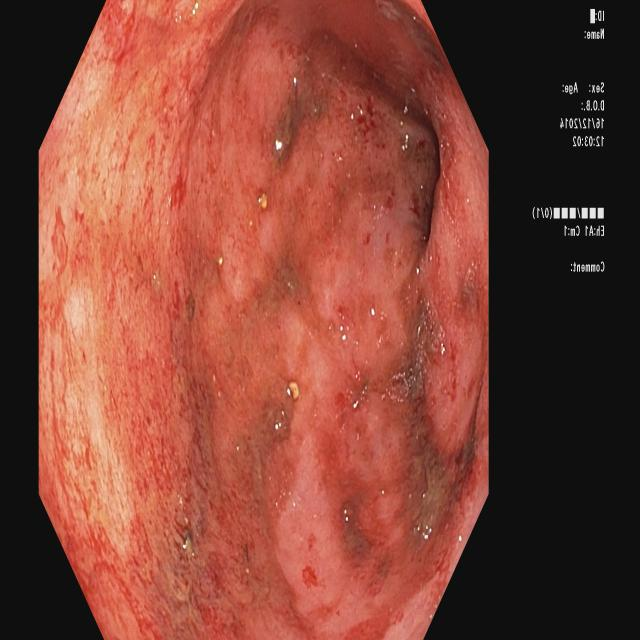ulcerative-colities: (36, 0, 488, 640)
